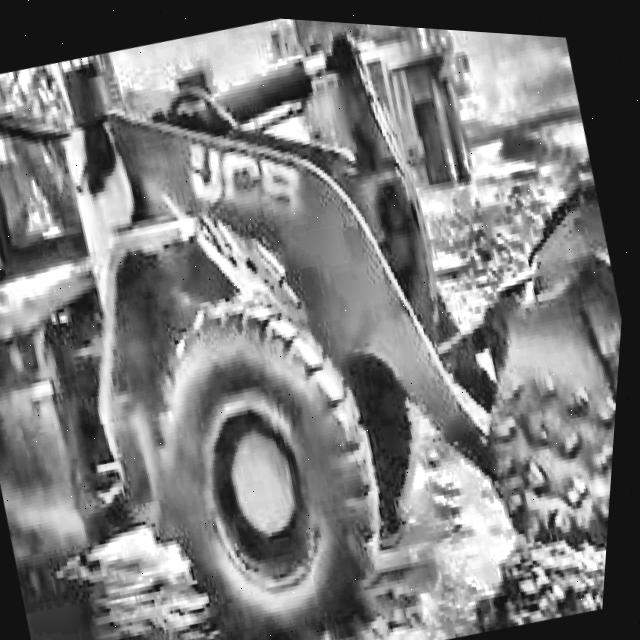buldozerpayloadergrader: (0, 0, 640, 640)
dump_truck: (263, 14, 487, 202)
